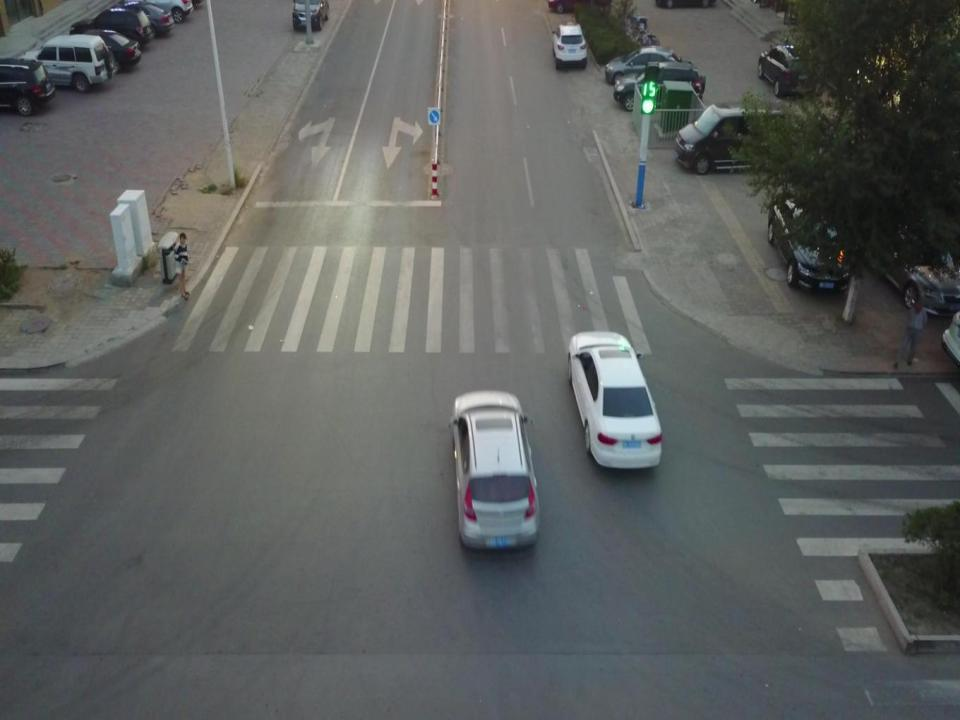car: (448, 388, 538, 552), (569, 330, 662, 470), (858, 208, 960, 315), (768, 191, 856, 291), (19, 35, 113, 94), (614, 60, 706, 113), (70, 9, 152, 56), (60, 30, 140, 76), (757, 40, 817, 97), (0, 56, 54, 114), (606, 43, 682, 84), (96, 2, 174, 38), (552, 24, 587, 70)
van: (674, 105, 785, 173), (292, 0, 332, 33)
